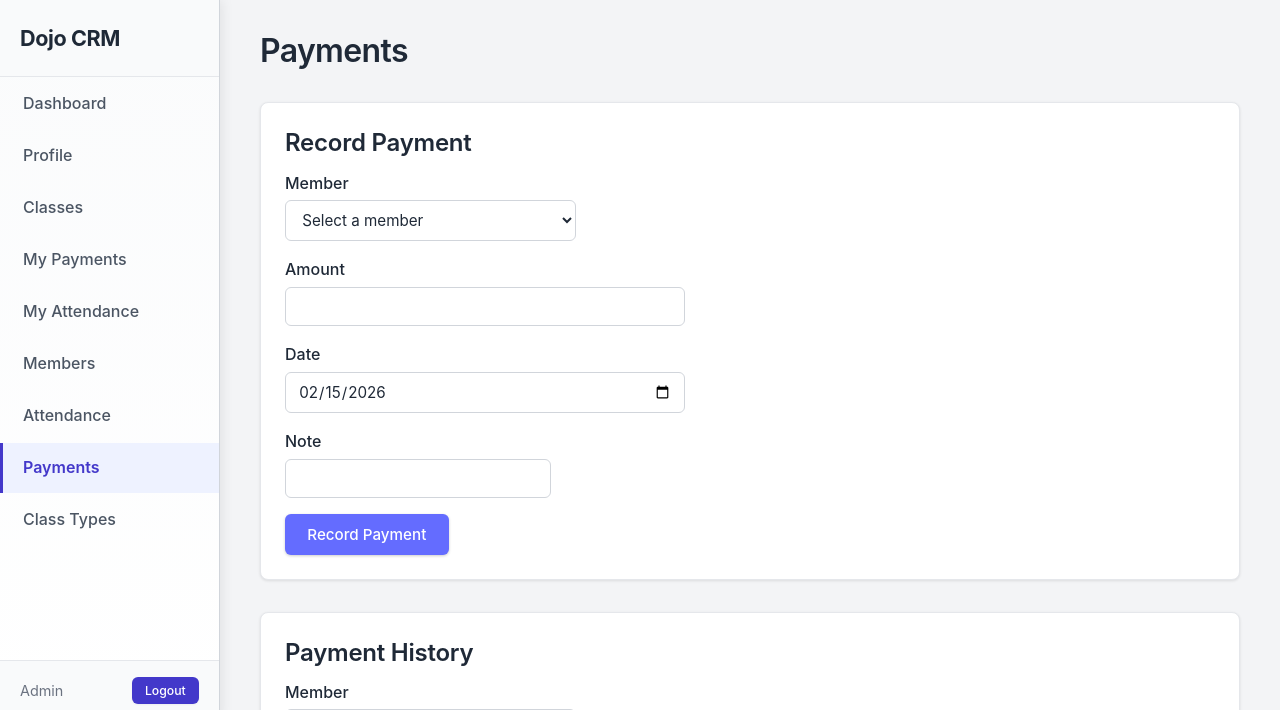
Test: Payments › shows error on record failure
Expected: the element "Record Payment" is shown, [260,102,1240,580]
Select "Bob User (bob@example.com)" in the 1st dropdown labelled "Member". click: (431, 221)
box: [285,200,576,241]
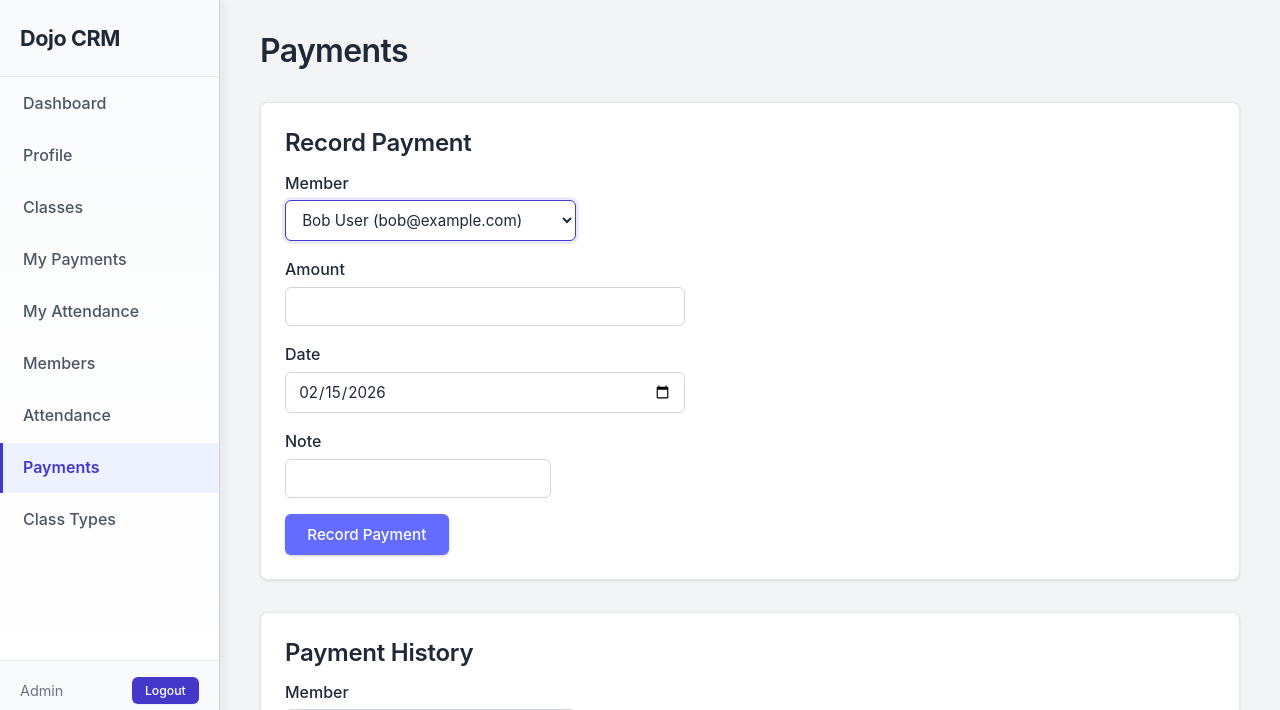
Type "50" into the number field labelled "Amount". click: (485, 307)
box: [285,287,685,326]
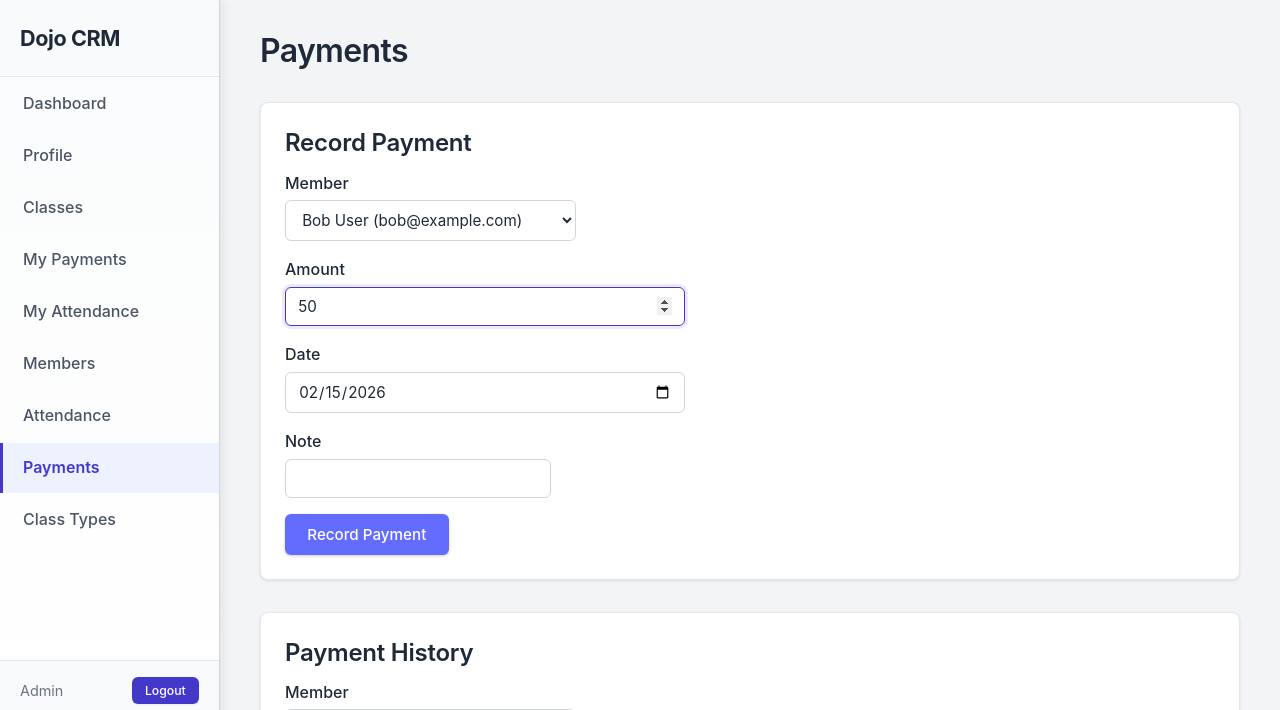
Click the button "Record Payment". click: (367, 534)
box: [285,514,449,555]
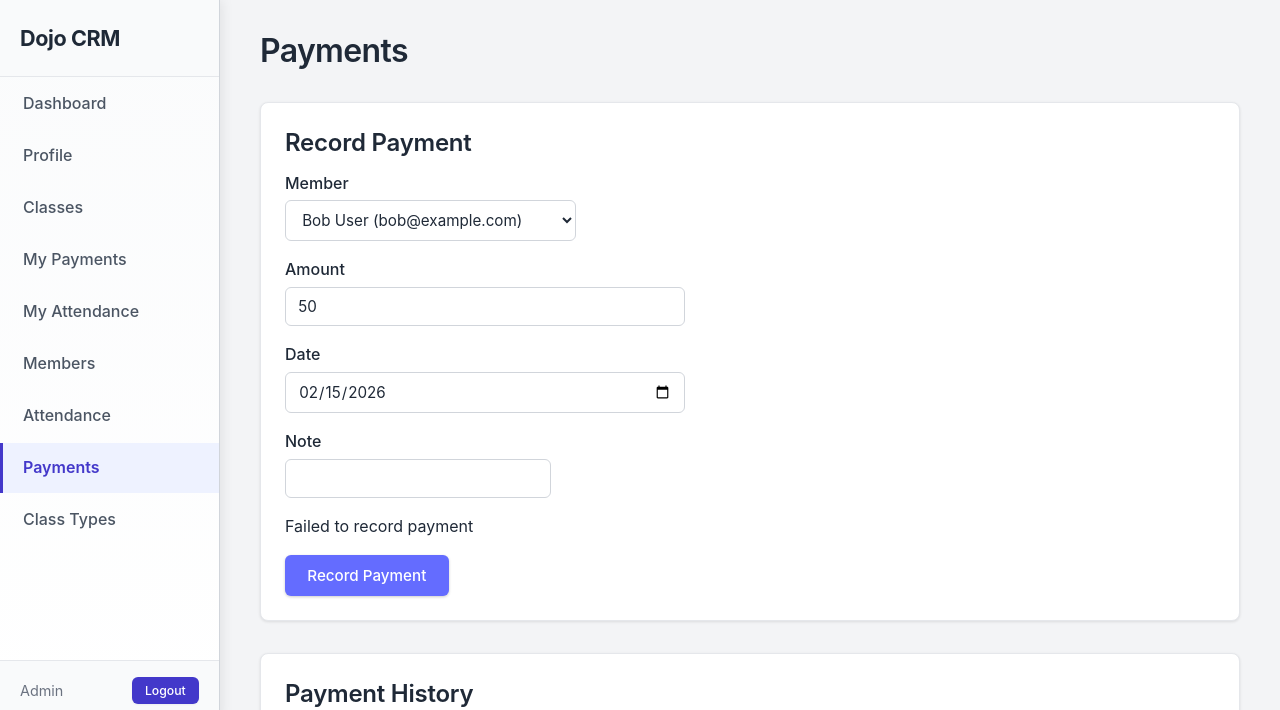
Expected: the message reads "Failed to record payment", [285,516,473,536]
